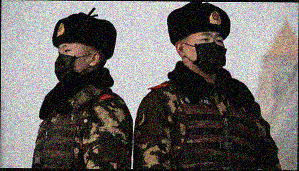with_mask: (184, 31, 227, 72), (55, 43, 91, 82)
